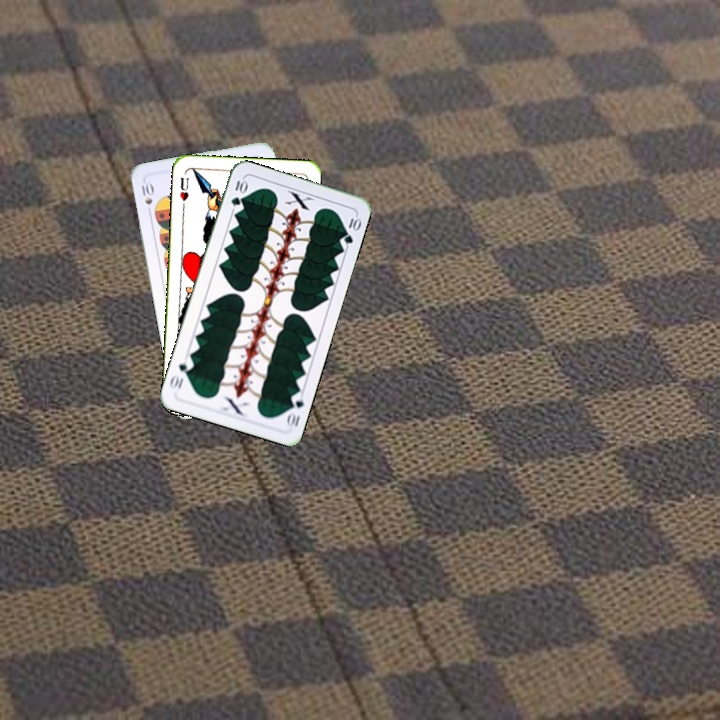G10: (282, 389, 306, 430), (227, 175, 249, 208)
HU: (176, 173, 191, 203)
S10: (136, 177, 155, 218)
